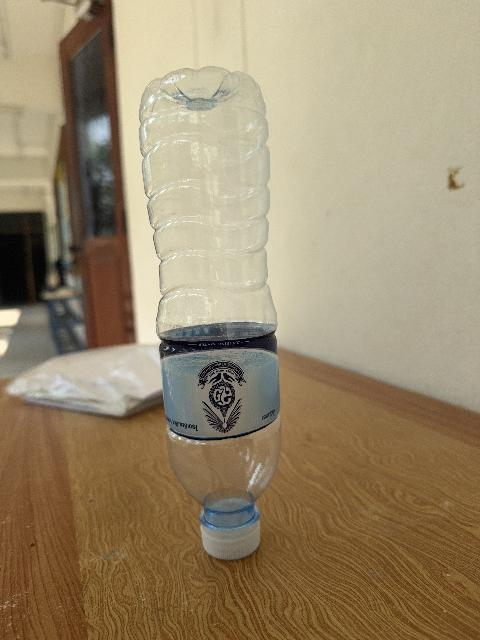bottle: (140, 67, 280, 559)
